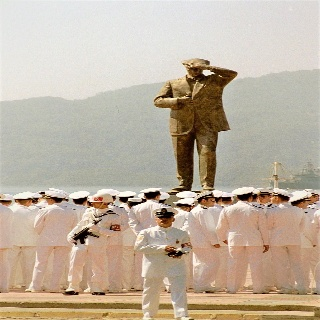rifle: (72, 211, 111, 246)
